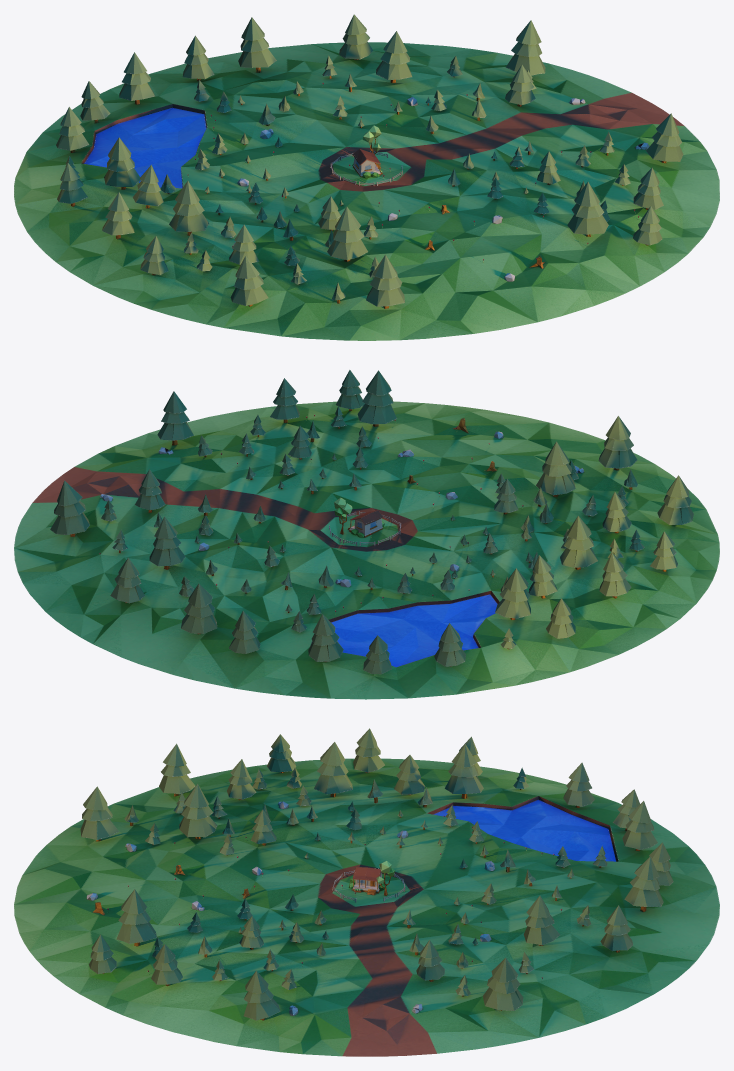
Rendered from map.glb.
The picture shows the model from 3 angles, top to bottom: view 1: azimuth 30°, elevation 25°; view 2: azimuth 150°, elevation 25°; view 3: azimuth 270°, elevation 25°; orthographic projection.
Visible parts, largest first — view 1: Floor_26, Object_58, big.tree.030_24, big.tree.022_21, big.tree.031_25, big.tree.001_1, big.tree.009_9, big.tree.021_20, big.tree.015_15, big.tree.020_19, big.tree.007_7, big.tree.011_11 (+13 smaller); view 2: Floor_26, Object_58, big.tree.009_9, big.tree.030_24, big.tree.022_21, big.tree.031_25, big.tree.001_1, big.tree.021_20, big.tree.015_15, big.tree.020_19, big.tree.011_11, big.tree.007_7 (+14 smaller); view 3: Floor_26, Object_58, big.tree.009_9, big.tree.030_24, big.tree.022_21, big.tree.001_1, big.tree.031_25, big.tree.021_20, big.tree.015_15, big.tree.007_7, big.tree.020_19, big.tree.011_11 (+14 smaller).
Boxes of the visible parts, x1,y1,x2,y2 form: Floor_26: (14, 42, 719, 340); Object_58: (232, 97, 649, 249); big.tree.030_24: (567, 182, 608, 236); big.tree.022_21: (327, 206, 367, 261); big.tree.031_25: (366, 254, 404, 308); big.tree.001_1: (169, 180, 209, 235); big.tree.009_9: (505, 20, 545, 75); big.tree.021_20: (238, 17, 276, 72); big.tree.015_15: (104, 137, 140, 189); big.tree.020_19: (230, 256, 268, 306); big.tree.007_7: (646, 113, 683, 163); big.tree.011_11: (376, 31, 412, 83); Floor_26: (14, 401, 719, 699); Object_58: (100, 447, 459, 587); big.tree.009_9: (50, 480, 89, 536); big.tree.030_24: (357, 370, 396, 426); big.tree.022_21: (536, 441, 575, 497); big.tree.031_25: (598, 416, 637, 470); big.tree.001_1: (560, 515, 597, 569); big.tree.021_20: (181, 583, 217, 634); big.tree.015_15: (495, 568, 530, 619); big.tree.020_19: (657, 475, 693, 524); big.tree.011_11: (149, 516, 185, 569); big.tree.007_7: (157, 391, 193, 445); Floor_26: (14, 758, 719, 1056); Object_58: (277, 801, 494, 1015); big.tree.009_9: (483, 957, 523, 1010); big.tree.030_24: (116, 889, 156, 946); big.tree.022_21: (179, 783, 217, 839); big.tree.001_1: (314, 742, 352, 797); big.tree.031_25: (80, 786, 118, 841); big.tree.021_20: (624, 856, 663, 911); big.tree.015_15: (444, 744, 483, 798); big.tree.007_7: (243, 970, 280, 1020); big.tree.020_19: (159, 743, 195, 796); big.tree.011_11: (523, 895, 559, 945).
Size of the model in its own units: 5.87 by 0.669 by 5.87.
Materials: 3 (3 with a texture image).
